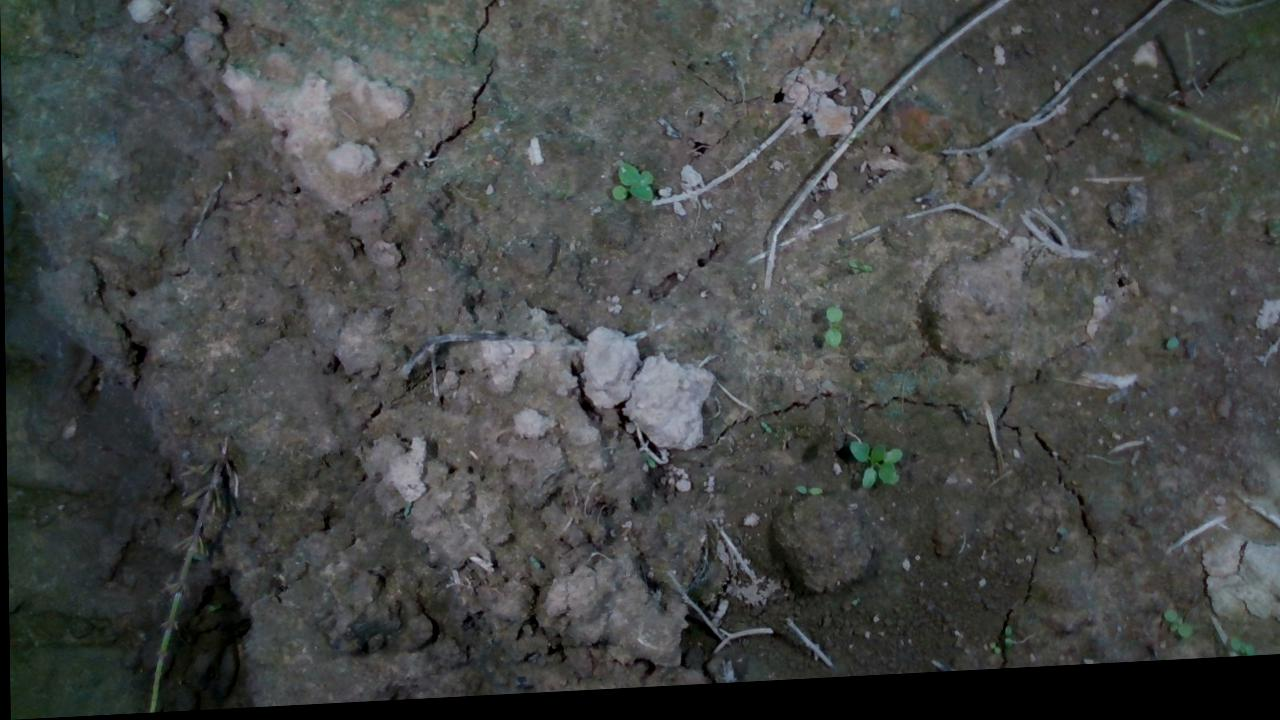weed: (846, 447, 900, 499), (607, 165, 654, 209), (1160, 619, 1190, 652), (823, 312, 842, 357), (846, 267, 872, 283), (791, 491, 822, 504)
